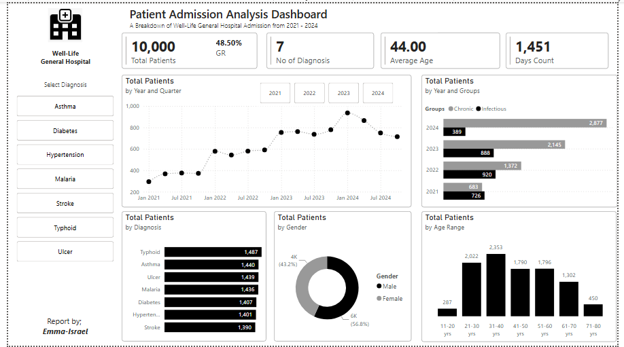

The dashboard page shown, as its layout file describes it:
{"tool":"powerbi","page":{"name":"Dashboard","canvas":[1280,720],"ordinal":3},"visuals":[{"type":"multiRowCard","fields":{"Values":["All Measures.Total Patients"]},"box":[239,61.9,285.1,76.3],"z":0},{"type":"multiRowCard","fields":{"Values":["All Measures.No of Diagnosis"]},"box":[542.9,61.9,226.1,76.3],"z":1000},{"type":"multiRowCard","fields":{"Values":["All Measures.Average Age"]},"box":[783.4,61.9,250.6,76.3],"z":2000},{"type":"multiRowCard","fields":{"Values":["All Measures.Days Count"]},"box":[1045.4,61.9,216,76.3],"z":3000},{"type":"barChart","fields":{"Y":["All Measures.Total Patients"],"Category":["Records.Diagnosis"]},"box":[239,437.8,303.8,273.6],"z":4000},{"type":"donutChart","fields":{"Y":["All Measures.Total Patients"],"Category":["Records.Gender"]},"box":[558.7,437.8,289.4,273.6],"z":5000},{"type":"columnChart","fields":{"Y":["All Measures.Total Patients"],"Category":["Records.Age Range"]},"box":[868.3,437.8,410.4,275],"z":6000},{"type":"clusteredBarChart","fields":{"Y":["All Measures.Total Patients"],"Category":["Calendar.date.Variation.Date Hierarchy.Year","Calendar.date.Variation.Date Hierarchy.Quarter","Calendar.date.Variation.Date Hierarchy.Month","Calendar.date.Variation.Date Hierarchy.Day"],"Series":["Diagnosis.Groups"]},"box":[868.3,149.8,411.8,279.4],"z":7000},{"type":"lineChart","fields":{"Y":["All Measures.Total Patients"],"Category":["Calendar.date.Variation.Date Hierarchy.Year","Calendar.date.Variation.Date Hierarchy.Quarter","Calendar.date.Variation.Date Hierarchy.Month"]},"box":[239,149.8,609.1,279.4],"z":8000},{"type":"multiRowCard","fields":{"Values":["All Measures.GR"]},"box":[432,67.7,92.2,64.8],"z":9000},{"type":"advancedSlicerVisual","title":"Select Diagnosis","fields":{"Values":["Diagnosis.Diagnosis"]},"box":[13,161.3,214.6,391.7],"z":10000},{"type":"advancedSlicerVisual","title":"Select Diagnosis","fields":{"Values":["Calendar.date.Variation.Date Hierarchy.Year"]},"box":[524.2,161.3,290.9,54.7],"z":11000},{"type":"textbox","box":[250.6,0,492.5,92.2],"z":12000},{"type":"image","box":[83.5,10.1,73.4,72],"z":13000},{"type":"textbox","box":[31.7,90.7,178.6,59],"z":14000},{"type":"textbox","box":[21.6,652.3,197.3,59],"z":14001}]}

Visuals, with their boxes in screenshot pixels (x1, y1, x2, y2), scaled from the page's 1280x720 canvas onto the 624x347 screenshot:
multiRowCard - All Measures.Total Patients: {"left": 117, "top": 30, "right": 255, "bottom": 67}
multiRowCard - All Measures.No of Diagnosis: {"left": 265, "top": 30, "right": 375, "bottom": 67}
multiRowCard - All Measures.Average Age: {"left": 382, "top": 30, "right": 504, "bottom": 67}
multiRowCard - All Measures.Days Count: {"left": 510, "top": 30, "right": 615, "bottom": 67}
barChart - All Measures.Total Patients x Records.Diagnosis: {"left": 117, "top": 211, "right": 265, "bottom": 343}
donutChart - All Measures.Total Patients x Records.Gender: {"left": 272, "top": 211, "right": 413, "bottom": 343}
columnChart - All Measures.Total Patients x Records.Age Range: {"left": 423, "top": 211, "right": 623, "bottom": 344}
clusteredBarChart - All Measures.Total Patients x Calendar.date.Variation.Date Hierarchy.Year: {"left": 423, "top": 72, "right": 623, "bottom": 207}
lineChart - All Measures.Total Patients x Calendar.date.Variation.Date Hierarchy.Year: {"left": 117, "top": 72, "right": 413, "bottom": 207}
multiRowCard - All Measures.GR: {"left": 211, "top": 33, "right": 256, "bottom": 64}
"Select Diagnosis" advancedSlicerVisual: {"left": 6, "top": 78, "right": 111, "bottom": 267}
"Select Diagnosis" advancedSlicerVisual: {"left": 256, "top": 78, "right": 397, "bottom": 104}
textbox: {"left": 122, "top": 0, "right": 362, "bottom": 44}
image: {"left": 41, "top": 5, "right": 76, "bottom": 40}
textbox: {"left": 15, "top": 44, "right": 103, "bottom": 72}
textbox: {"left": 11, "top": 314, "right": 107, "bottom": 343}
